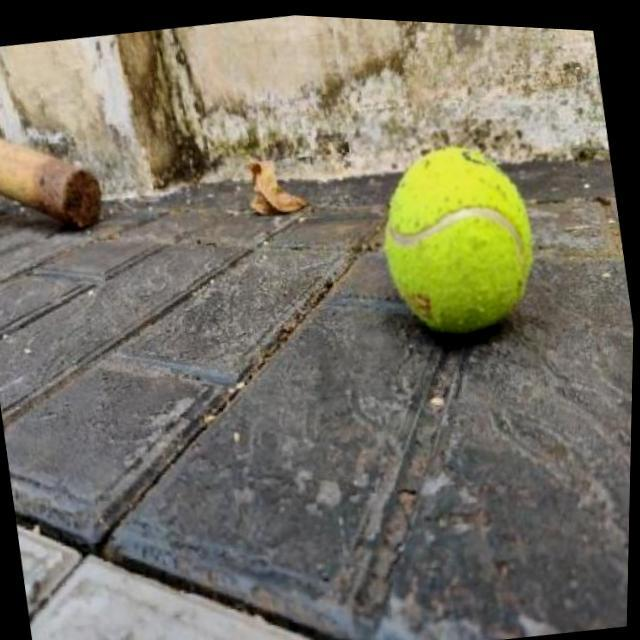-: (352, 110, 573, 360)
